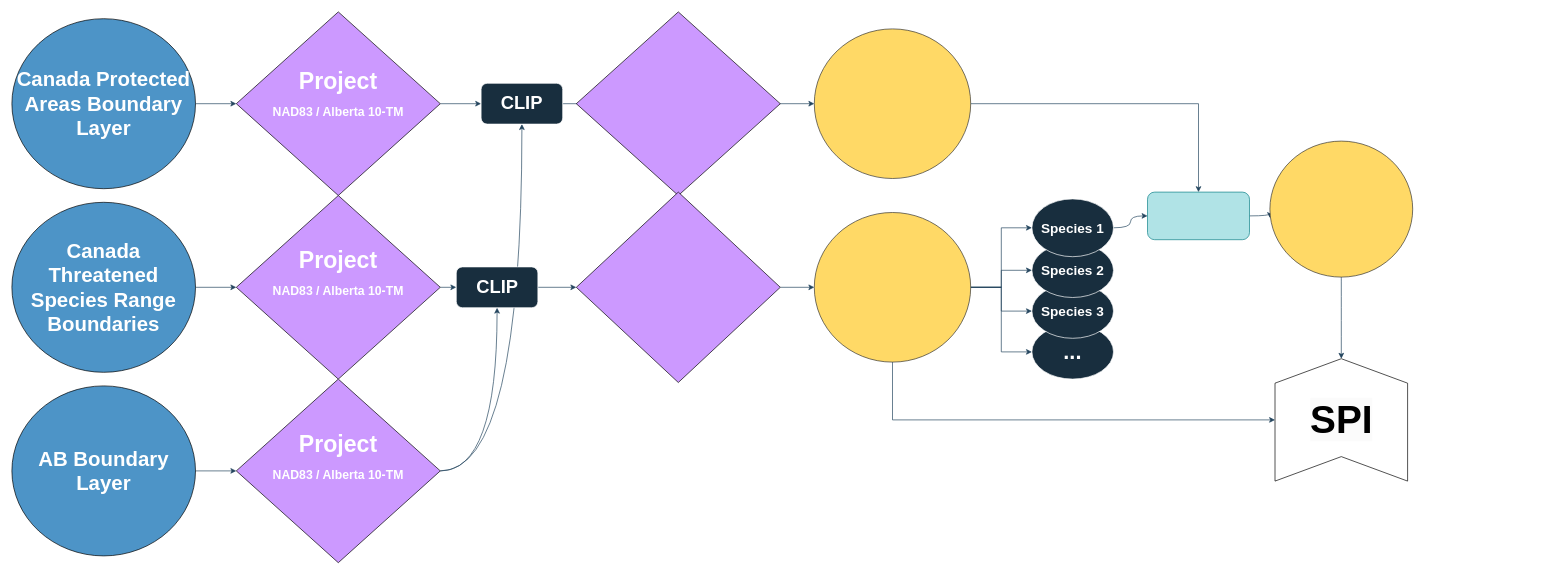
Image size: 1559x575. Some labels were removed from this diagram. The centre of each missing label's shape, as x and y in pixels:
AB Protected Areas: the point at 892,103
FILTER IUCN Level = 1,2,3,4: the point at 678,103
FILTER STATUS={EN, TH, SC}: the point at 678,286
Intersect: the point at 1198,215
Species 1 Area Protected: the point at 1341,208
Species of Concern AB Ranges: the point at 892,287
